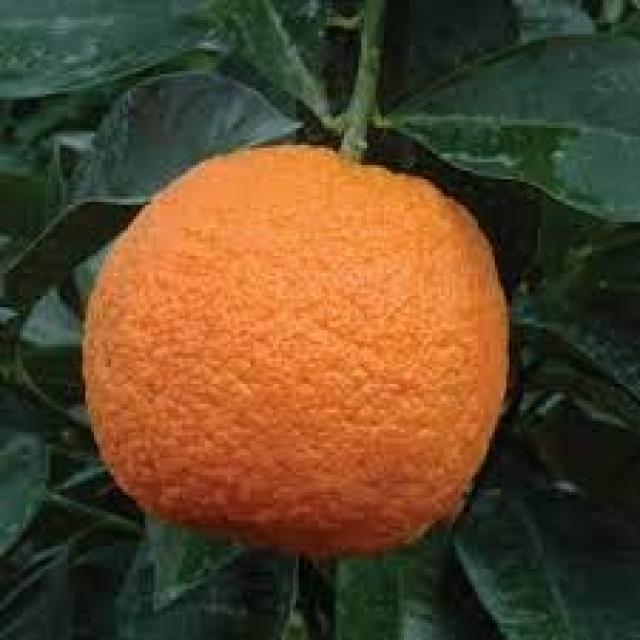Good_Orange: (82, 145, 518, 560)
